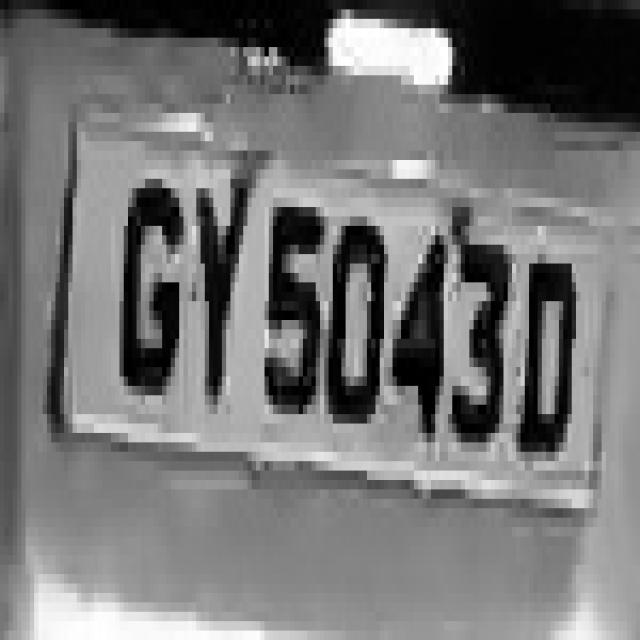0: (324, 179, 397, 433)
3: (448, 198, 516, 461)
4: (392, 198, 457, 452)
5: (252, 169, 328, 433)
D: (521, 198, 580, 461)
G: (111, 132, 179, 395)
Y: (183, 151, 256, 414)
